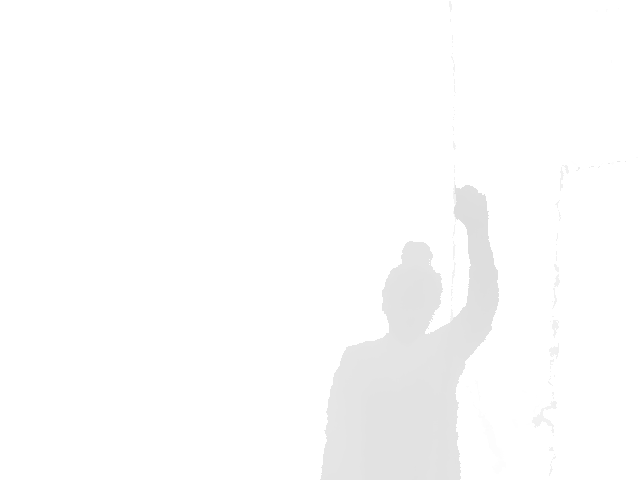hand: (453, 185, 489, 232)
head: (380, 239, 443, 337)
person: (318, 185, 500, 480)
